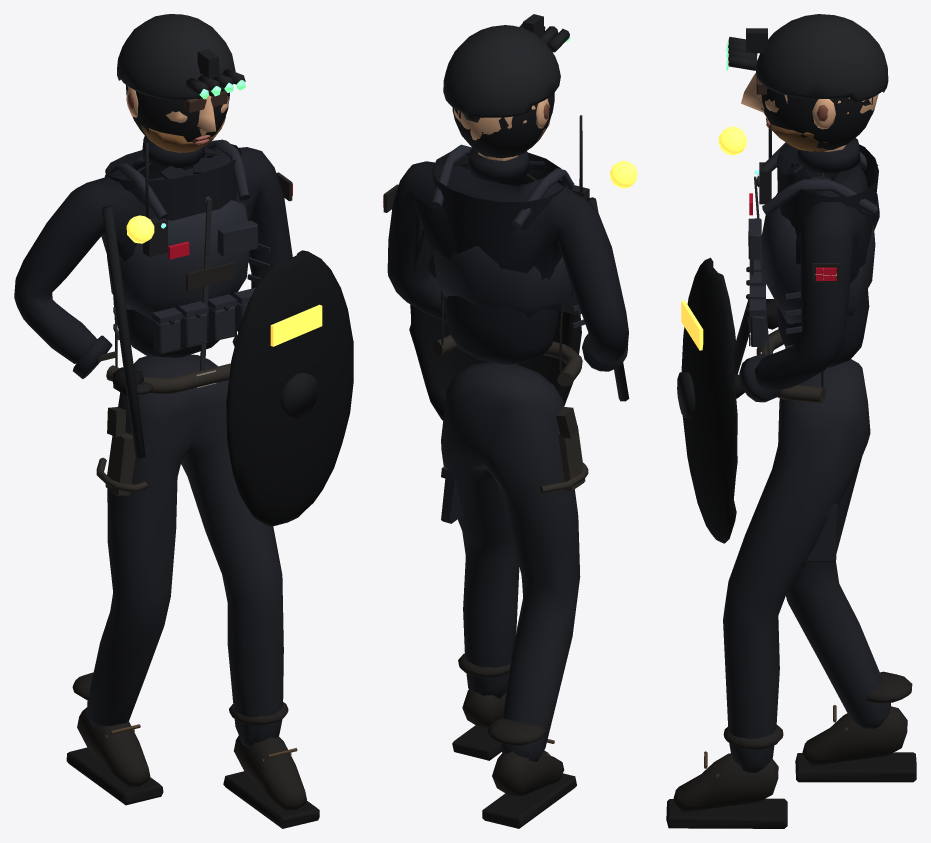
The model's file is enhed_nat.glb.
3 renders of one model, left to right at view 1: azimuth 30°, elevation 25°; view 2: azimuth 150°, elevation 25°; view 3: azimuth 270°, elevation 25°, orthographic. The views are drawn at different scales.
Visible parts, largest first — view 1: krop_net; view 2: krop_net; view 3: krop_net.
Boxes of the visible parts, x1,y1,x2,y2 form: krop_net: (14,14,353,828); krop_net: (382,14,637,828); krop_net: (666,14,916,828).
Bounding box in the file's own units: 0.8781 × 2.3 × 0.6714.
